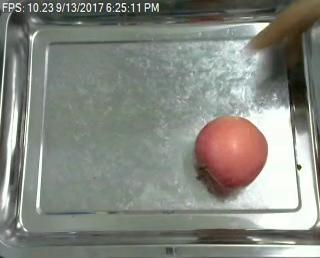apple: (194, 115, 269, 190)
